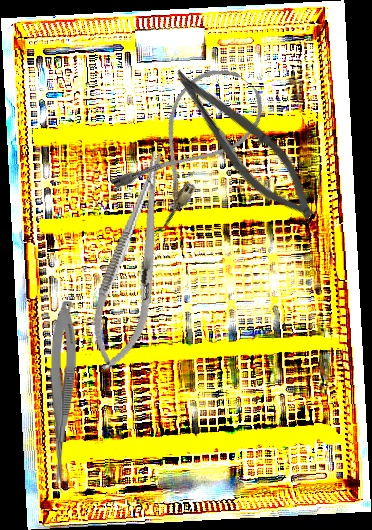Cannula: (106, 53, 275, 231)
Micro Scissor: (155, 58, 331, 231), (48, 300, 78, 494)
Needle Holder: (82, 146, 185, 376)
